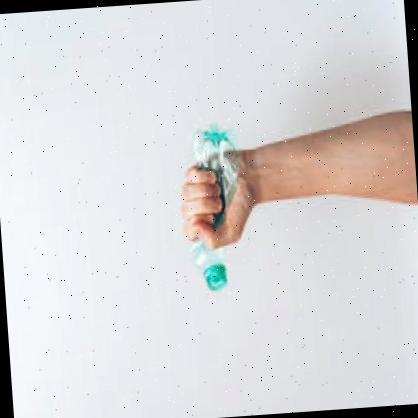bottle: (168, 116, 260, 300)
